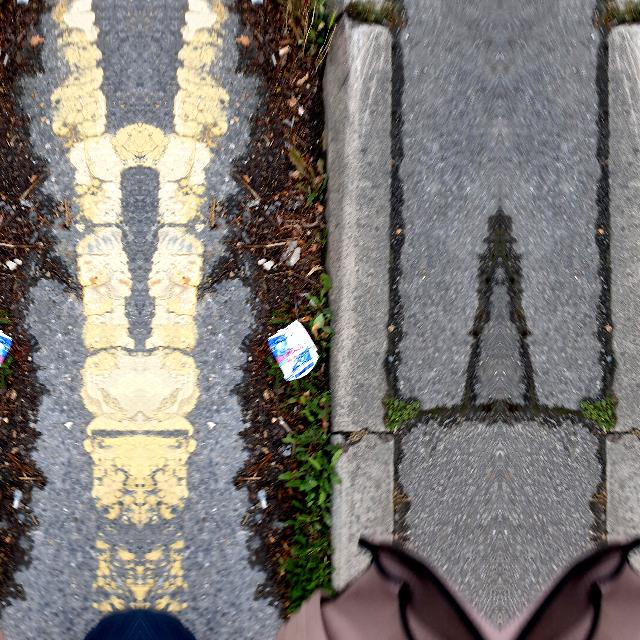Cardboard: (266, 316, 320, 382), (0, 315, 14, 382)
